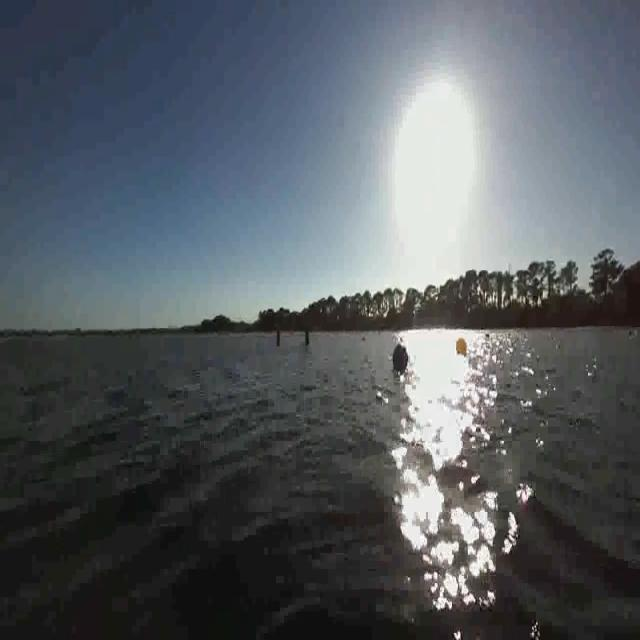blue-buoy: (392, 341, 408, 372)
green-column-buoy: (305, 329, 311, 347)
red-column-buoy: (274, 322, 282, 349)
yellow-buoy: (456, 337, 467, 356)
